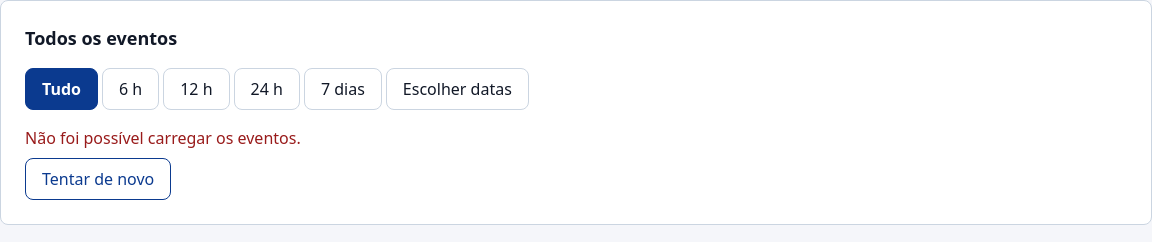
Scenario: EventsList › erro mostra a mensagem e 'Tentar de novo' busca de novo
Expected: the message shows "Não foi possível carregar os eventos.", [25,127,301,149]
Click the button "Tentar de novo" at x=98, y=179, box [25,158,171,200]
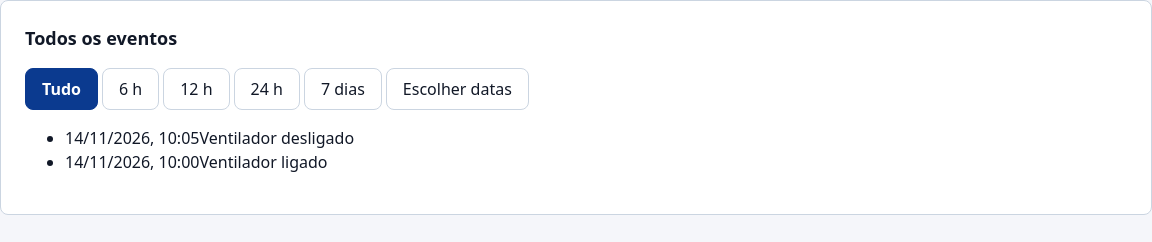
Expected: the number of list items is 2, [65,127,354,149]; [65,151,328,173]
